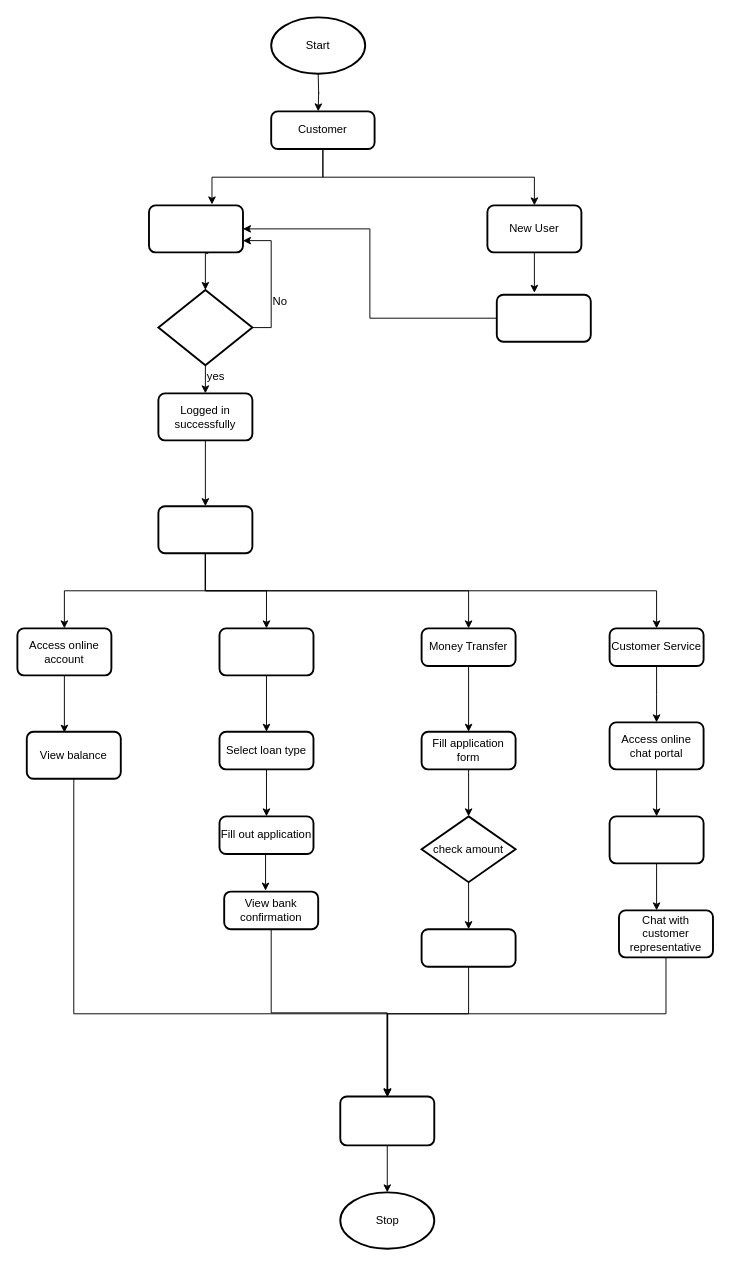
This 729x1265 diagram has some shape labels left out. Here are the shapes that lost their labels. From the top down, the centre of each, then its label:
At (195,228): "Login".
At (205,327): "Is credential correct?".
At (543,317): "Register".
At (205,529): "Select Operation".
At (266,651): "Loan Application".
At (656,839): "Select service needed".
At (468,947): "Submit".
At (387,1120): "Logout".
